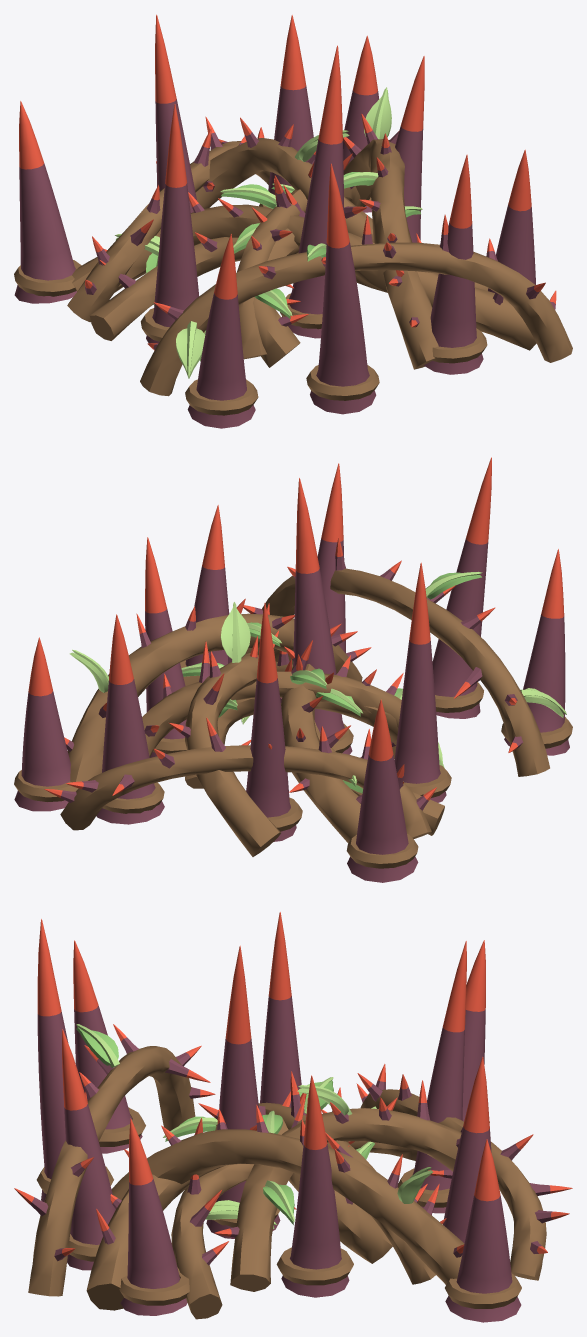
Rendered from G09_ThornBrambleSpikes.fbx.
The picture shows the model from 3 angles, top to bottom: view 1: azimuth 30°, elevation 25°; view 2: azimuth 150°, elevation 25°; view 3: azimuth 270°, elevation 25°; orthographic projection. The views are drawn at different scales.
Parts seen in each view (by area): view 1: GM_G09_ThornBramble; view 2: GM_G09_ThornBramble; view 3: GM_G09_ThornBramble.
Part boxes in pixels (x1=…): GM_G09_ThornBramble: x1=14, y1=14, x2=572, y2=428; GM_G09_ThornBramble: x1=14, y1=457, x2=572, y2=882; GM_G09_ThornBramble: x1=14, y1=912, x2=572, y2=1322.
Size of the model in its own units: 119 by 82.9 by 140.
